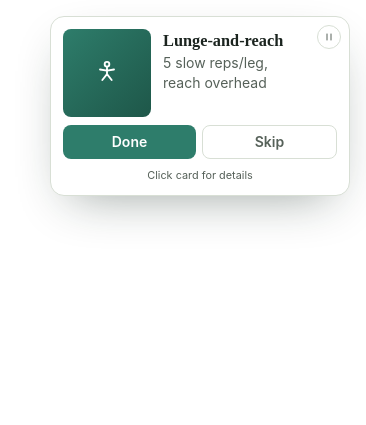
Test case: App › expands to the full dialog when the toast body is clicked, replacing the toast
WHEN the user clicks the toast body
Click the button with aria-label "Show details for Lunge-and-reach".
click(200, 73)  # box [63,29,337,117]
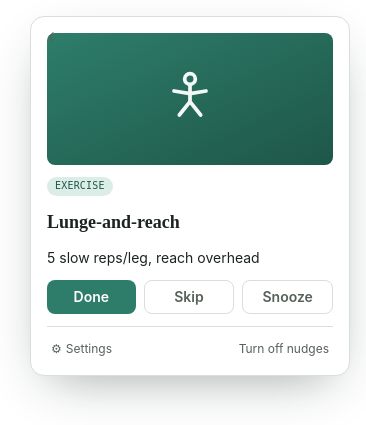
Expected: the heading "Lunge-and-reach" is shown, [47,212,180,232]
Now the text "Exercise" is shown, box [47,177,113,196]
Now the button "Snooze" is shown, box [242,280,333,314]
